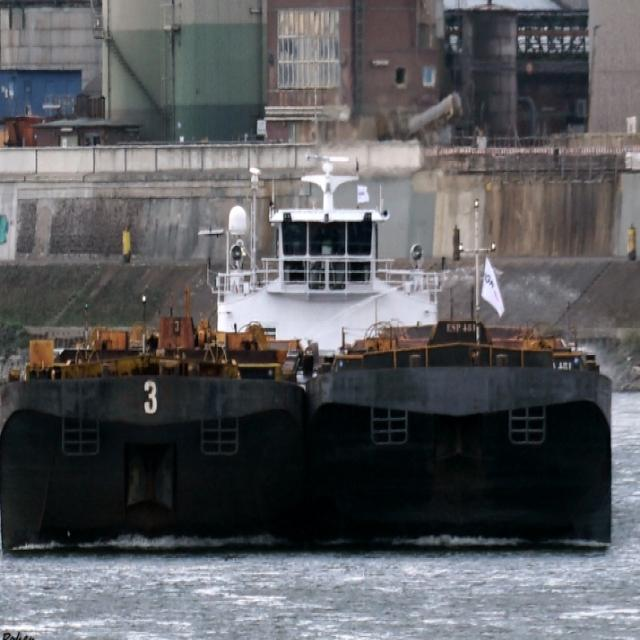tugboat: (197, 149, 455, 461)
